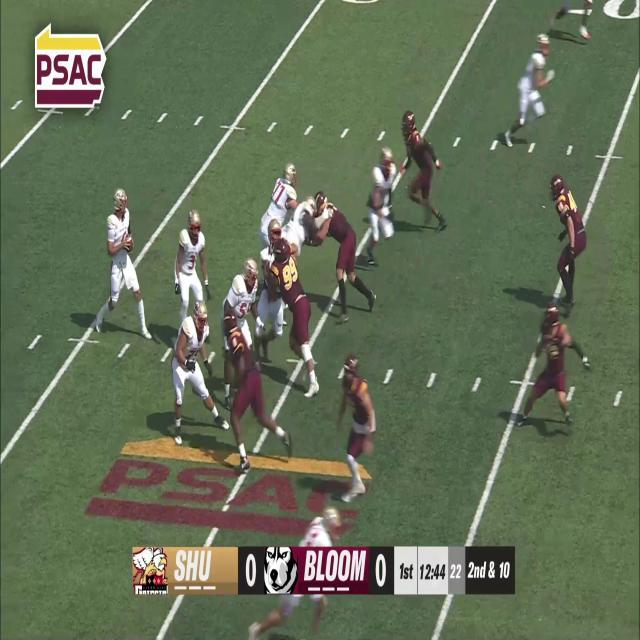football: (125, 232, 134, 255)
